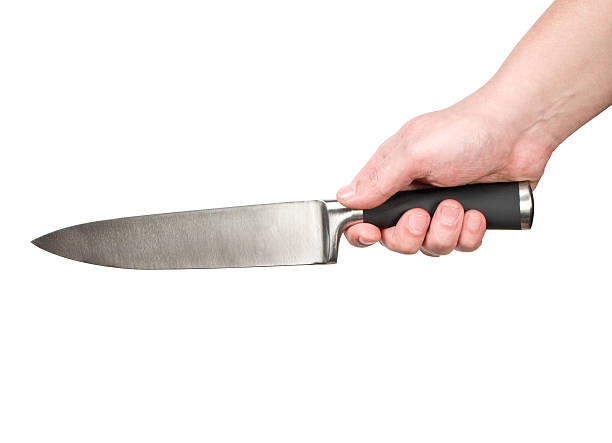knife: (26, 181, 537, 272)
